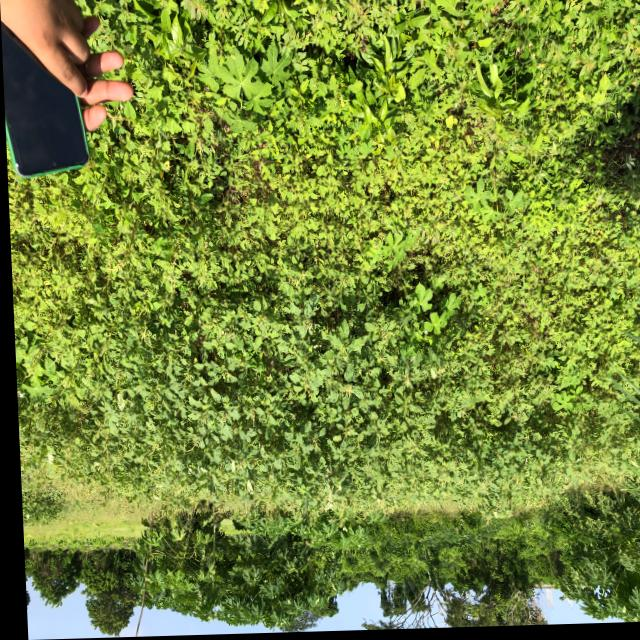Maleza: (13, 199, 255, 567), (341, 19, 640, 314), (141, 362, 449, 587), (388, 267, 601, 562), (142, 7, 369, 254), (184, 249, 485, 429), (265, 102, 505, 310), (550, 220, 640, 543)
